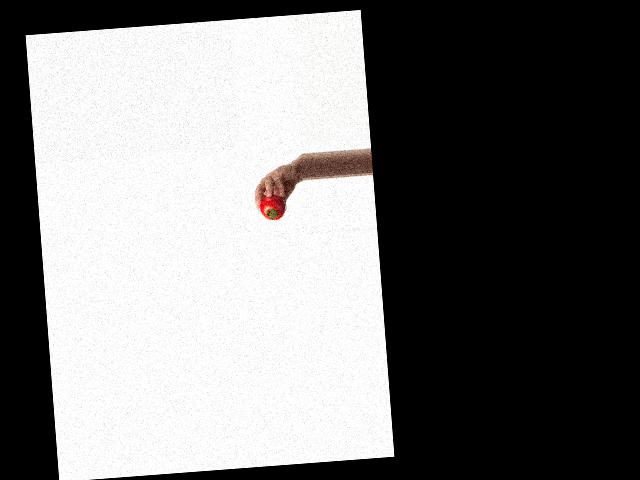tomato: (259, 194, 286, 221)
